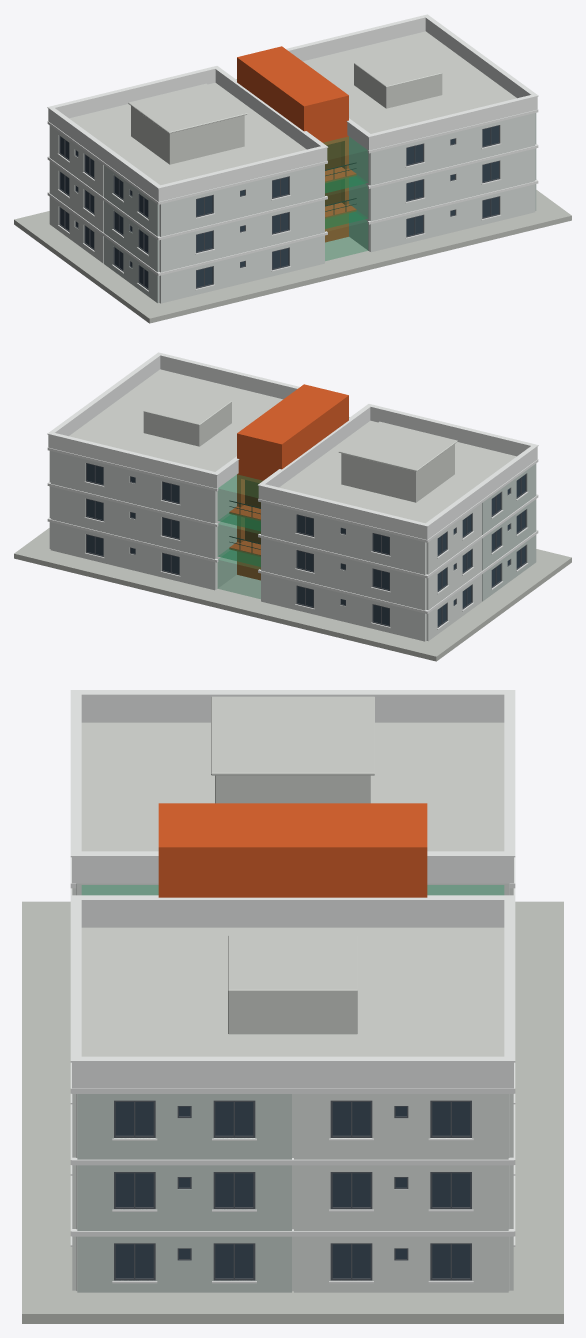
File: 9d1f5ca4-5358-4c18-8d36-6409a84dd12d-TTORRE_01-blender.glb
3 views of the same model, one above another, from view 1: azimuth 30°, elevation 25°; view 2: azimuth 150°, elevation 25°; view 3: azimuth 270°, elevation 25° (orthographic). The views are drawn at different scales.
Visible parts, largest first — view 1: TTORRE_01-panels, TTORRE_01-trim, TTORRE_01-body, TTORRE_01-base, TTORRE_01-roof-equipment, TTORRE_01-core, TTORRE_01-glass, TTORRE_01-frames, TTORRE_01-F3-U01, TTORRE_01-glass-lit, TTORRE_01-F2-U01, TTORRE_01-F1-U01; view 2: TTORRE_01-panels, TTORRE_01-trim, TTORRE_01-body, TTORRE_01-base, TTORRE_01-roof-equipment, TTORRE_01-core, TTORRE_01-glass-lit, TTORRE_01-frames, TTORRE_01-glass, TTORRE_01-F3-U02, TTORRE_01-F2-U02, TTORRE_01-F1-U02; view 3: TTORRE_01-body, TTORRE_01-panels, TTORRE_01-trim, TTORRE_01-base, TTORRE_01-roof-equipment, TTORRE_01-core, TTORRE_01-glass, TTORRE_01-glass-lit, TTORRE_01-frames.
Part boxes in pixels (x1,y1,x2,y2): TTORRE_01-panels: (49,113,536,303); TTORRE_01-trim: (47,14,538,291); TTORRE_01-body: (69,31,516,302); TTORRE_01-base: (14,190,571,323); TTORRE_01-roof-equipment: (128,49,442,164); TTORRE_01-core: (237,46,356,242); TTORRE_01-glass: (76,126,498,288); TTORRE_01-frames: (59,125,499,289); TTORRE_01-F3-U01: (323,136,367,193); TTORRE_01-glass-lit: (60,137,498,287); TTORRE_01-F2-U01: (325,183,367,228); TTORRE_01-F1-U01: (325,219,367,260); TTORRE_01-panels: (49,451,536,641); TTORRE_01-trim: (47,352,538,629); TTORRE_01-body: (69,369,516,640); TTORRE_01-base: (14,528,571,661); TTORRE_01-roof-equipment: (143,387,457,502); TTORRE_01-core: (229,384,348,580); TTORRE_01-glass-lit: (87,482,525,626); TTORRE_01-frames: (86,463,526,627); TTORRE_01-glass: (87,464,525,625); TTORRE_01-F3-U02: (218,474,262,531); TTORRE_01-F2-U02: (218,521,260,566); TTORRE_01-F1-U02: (218,557,260,598); TTORRE_01-body: (76,722,509,1291); TTORRE_01-panels: (72,888,513,1292); TTORRE_01-trim: (70,690,515,1283); TTORRE_01-base: (22,901,563,1323); TTORRE_01-roof-equipment: (211,696,374,1034); TTORRE_01-core: (158,803,427,897); TTORRE_01-glass: (115,1102,470,1278); TTORRE_01-glass-lit: (115,1102,470,1278); TTORRE_01-frames: (114,1100,471,1280).
Size of the model in its own units: 36 by 11.9 by 20.
